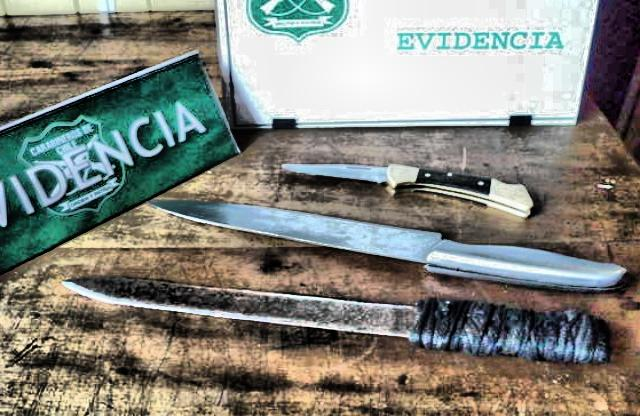knife: (54, 266, 416, 354), (142, 195, 444, 277), (274, 156, 402, 196)
